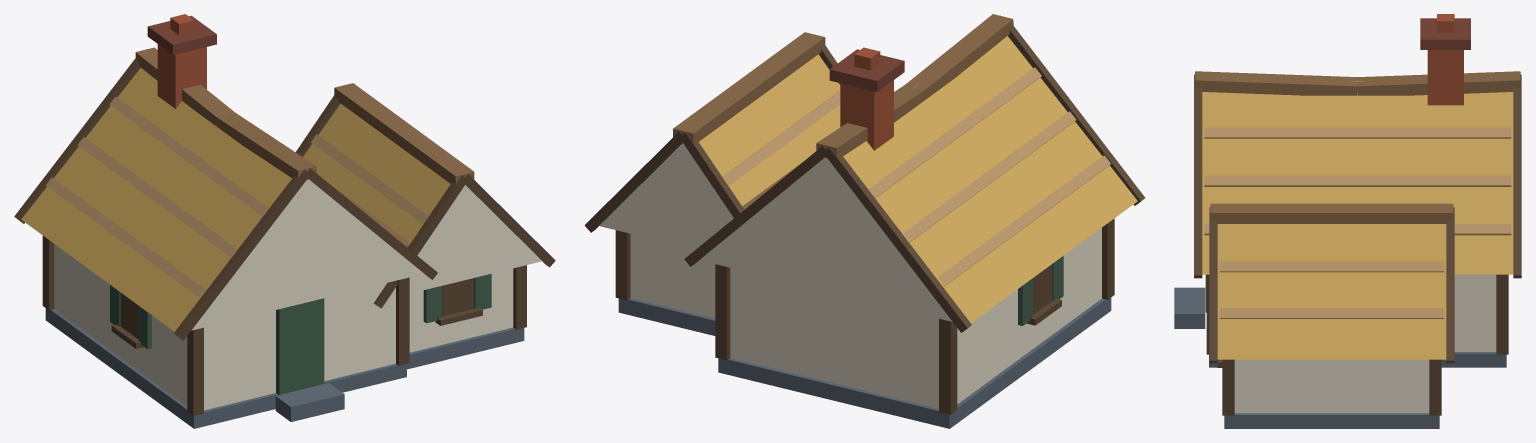
Rendered from cottage-c1.glb.
3 views of the same model, side by side, from view 1: azimuth 30°, elevation 25°; view 2: azimuth 150°, elevation 25°; view 3: azimuth 270°, elevation 25° (orthographic). The views are drawn at different scales.
Parts seen in each view (by area): view 1: house, accent; view 2: house, accent; view 3: house.
Part boxes in pixels (bbox=[...]): house: bbox=[14, 14, 555, 428]; accent: bbox=[110, 273, 491, 394]; house: bbox=[584, 14, 1145, 428]; accent: bbox=[1018, 256, 1063, 325]; house: bbox=[1174, 14, 1521, 428].
Bounding box in the file's own units: 8.63 × 6.36 × 6.72.
1 material, 1 textured.
